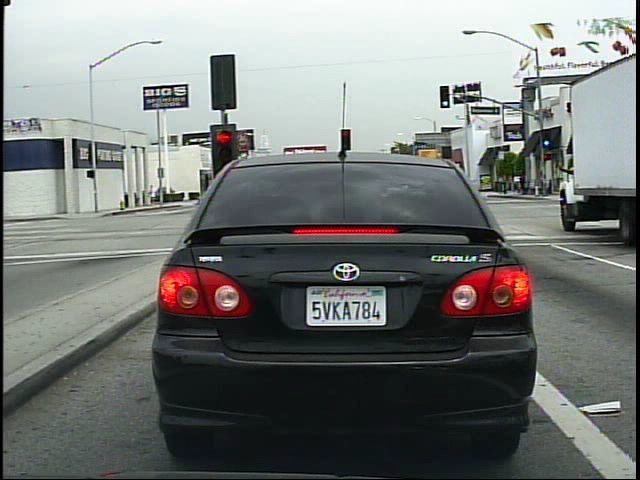person: (518, 171, 528, 197), (151, 181, 156, 208)
